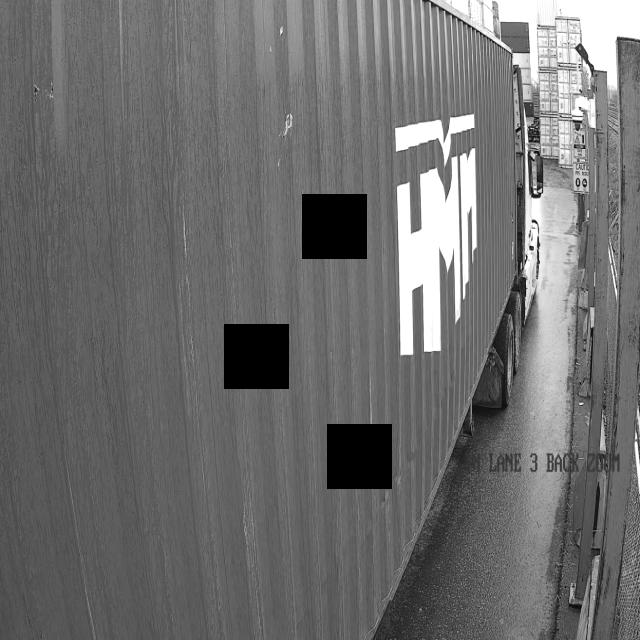container_company_logo: (360, 87, 528, 374)
truck_with_container: (0, 0, 531, 640)
